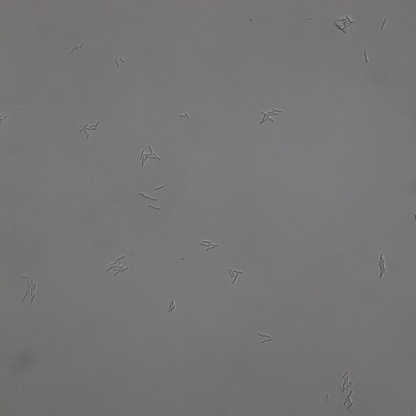R(colony): (19, 274, 37, 303), (107, 255, 129, 277), (140, 145, 160, 165), (334, 16, 354, 34), (80, 121, 99, 139), (260, 108, 281, 124), (340, 370, 353, 392), (343, 391, 355, 413), (377, 254, 386, 278), (228, 268, 242, 283), (200, 240, 217, 250), (258, 333, 273, 344), (168, 298, 177, 313), (70, 43, 83, 52), (115, 58, 125, 67), (180, 111, 189, 120)
